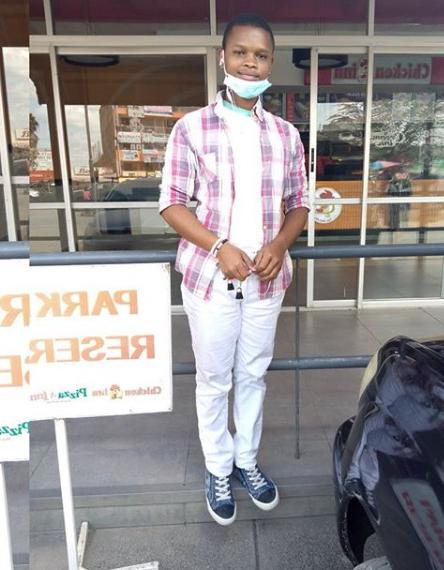mask_weared_incorrect: (221, 40, 272, 103)
